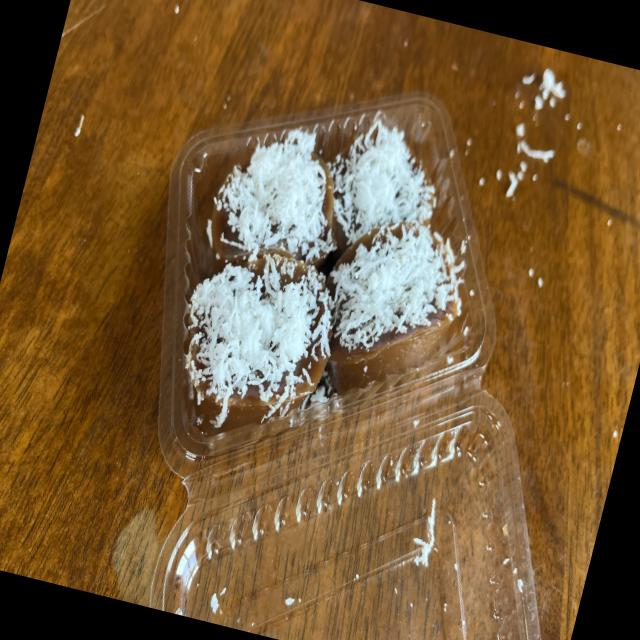Kuih lompang: (186, 250, 331, 433), (327, 220, 466, 394), (207, 127, 334, 271), (321, 119, 435, 276)
